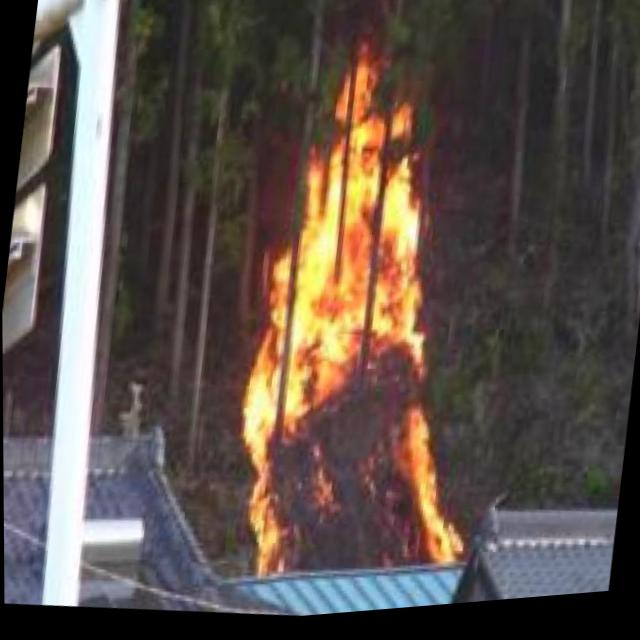Fire: (215, 55, 514, 599)
